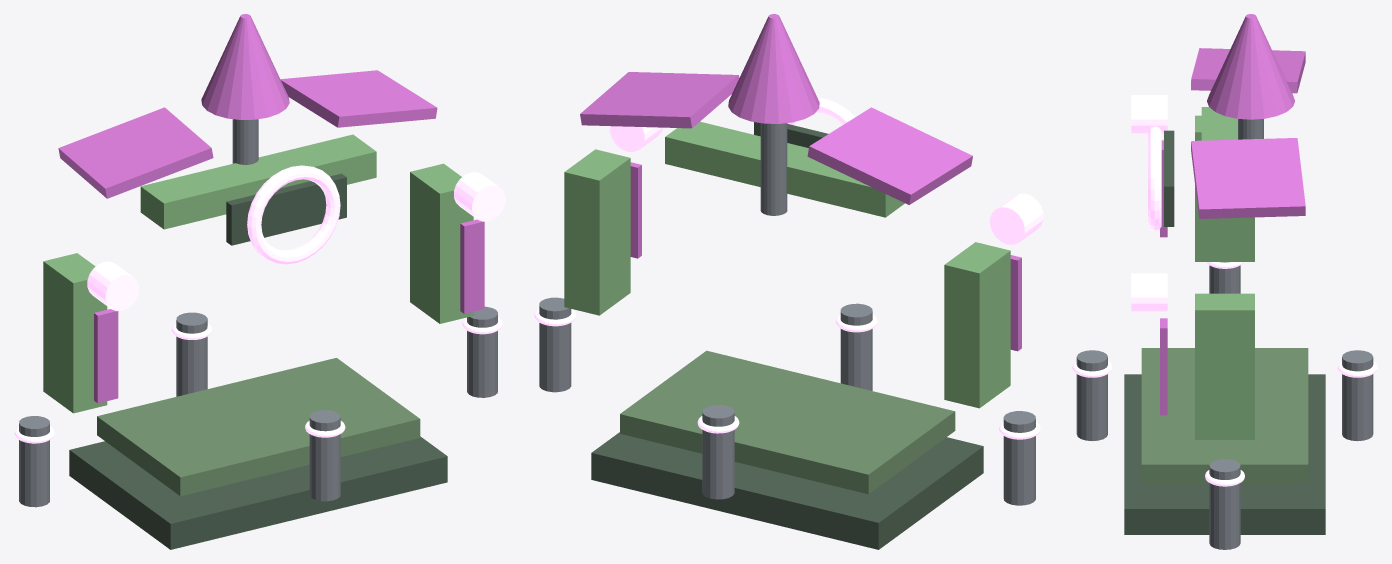
File: asset.glb
3 renders of one model, left to right at view 1: azimuth 30°, elevation 25°; view 2: azimuth 150°, elevation 25°; view 3: azimuth 270°, elevation 25°, orthographic. The views are drawn at different scales.
Visible parts, largest first — view 1: RaisedDeck, Foundation, CrossBeam, CanopyWing_-1, Pylon_-1, Pylon_1, CanopyWing_1, TopMarker, SignPanel, IdentityRing, Bollard_3, Bollard_2 (+7 smaller); view 2: RaisedDeck, Foundation, Pylon_1, Pylon_-1, CanopyWing_-1, CrossBeam, CanopyWing_1, TopMarker, Bollard_2, Bollard_1, Bollard_0, CenterMast (+6 smaller); view 3: RaisedDeck, Foundation, Pylon_1, CanopyWing_1, TopMarker, Bollard_1, Bollard_3, Bollard_0, CanopyWing_-1, Pylon_-1, CrossBeam, Lamp_1 (+6 smaller).
Boxes of the visible parts, <box> form: RaisedDeck: <box>97,358,420,496</box>; Foundation: <box>69,436,447,549</box>; CrossBeam: <box>140,134,376,229</box>; CanopyWing_-1: <box>58,107,213,198</box>; Pylon_-1: <box>43,253,107,413</box>; Pylon_1: <box>410,163,473,323</box>; CanopyWing_1: <box>280,70,437,127</box>; TopMarker: <box>201,14,289,119</box>; SignPanel: <box>226,173,346,245</box>; IdentityRing: <box>247,165,340,264</box>; Bollard_3: <box>309,410,340,501</box>; Bollard_2: <box>19,416,49,507</box>; RaisedDeck: <box>620,350,955,494</box>; Foundation: <box>591,432,983,549</box>; Pylon_1: <box>564,149,630,315</box>; Pylon_-1: <box>944,242,1010,408</box>; CanopyWing_-1: <box>807,107,972,204</box>; CrossBeam: <box>665,121,904,217</box>; CanopyWing_1: <box>580,72,739,128</box>; TopMarker: <box>728,14,819,123</box>; Bollard_2: <box>1003,411,1035,505</box>; Bollard_1: <box>702,405,734,499</box>; Bollard_0: <box>539,297,571,392</box>; CenterMast: <box>760,123,787,215</box>; RaisedDeck: <box>1141,348,1308,483</box>; Foundation: <box>1124,374,1325,534</box>; Pylon_1: <box>1195,293,1254,439</box>; CanopyWing_1: <box>1191,138,1305,218</box>; TopMarker: <box>1207,14,1294,119</box>; Bollard_1: <box>1342,350,1373,441</box>; Bollard_3: <box>1076,350,1107,441</box>; Bollard_0: <box>1209,459,1240,549</box>; CanopyWing_-1: <box>1191,48,1305,93</box>; Pylon_-1: <box>1195,115,1254,261</box>; CrossBeam: <box>1201,107,1248,236</box>; Lamp_1: <box>1131,273,1167,311</box>.
Size of the model in its own units: 4.27 by 3.83 by 2.35.
